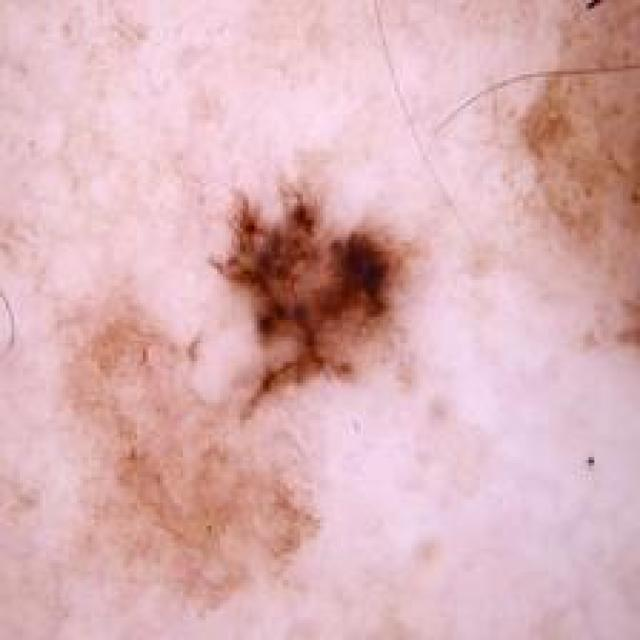Cancer: (194, 171, 414, 420)
